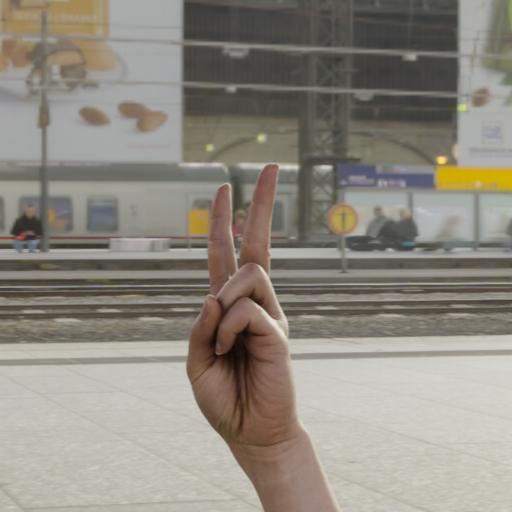V: (182, 159, 316, 458)
